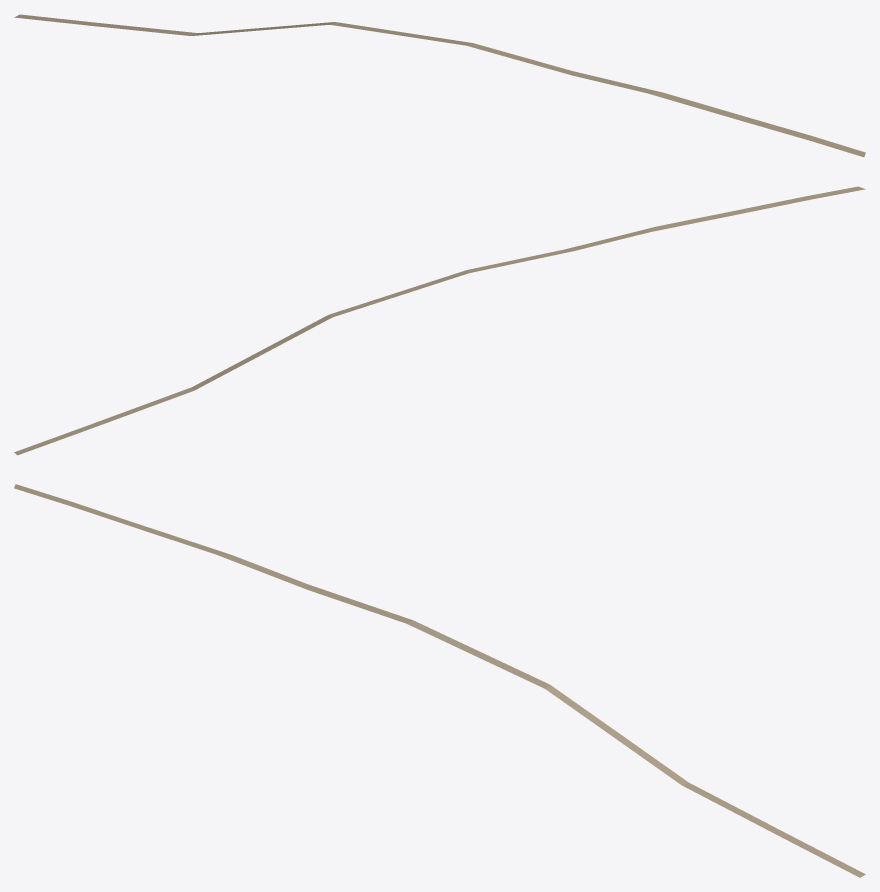
File: farm_-25_-28_track.glb
The picture shows the model from 3 angles, top to bottom: view 1: azimuth 90°, elevation 25°; view 2: azimuth 150°, elevation 25°; view 3: azimuth 270°, elevation 25°; orthographic projection. The views are drawn at different scales.
Parts seen in each view (by area): view 1: geometry_0; view 2: geometry_0; view 3: geometry_0.
Part boxes in pixels (x1=…): geometry_0: x1=14, y1=14, x2=865, y2=157; geometry_0: x1=14, y1=186, x2=865, y2=455; geometry_0: x1=14, y1=484, x2=865, y2=877.
Size of the model in its own units: 212 by 46.39 by 285.
